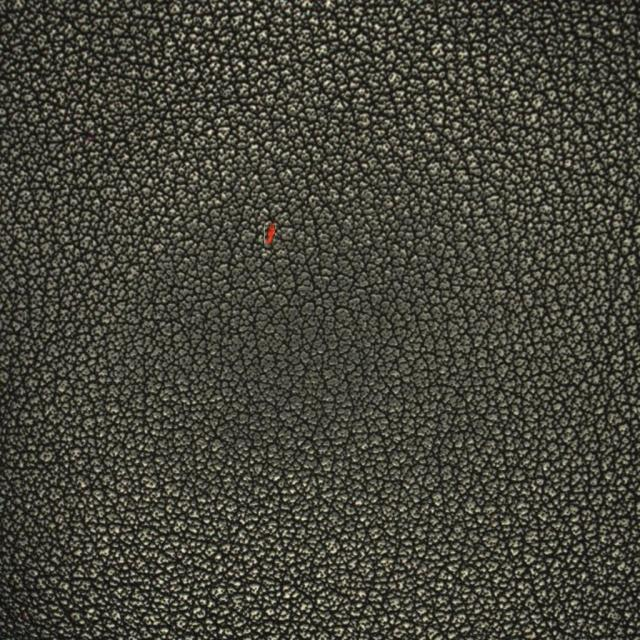Hole: (188, 181, 362, 292)
